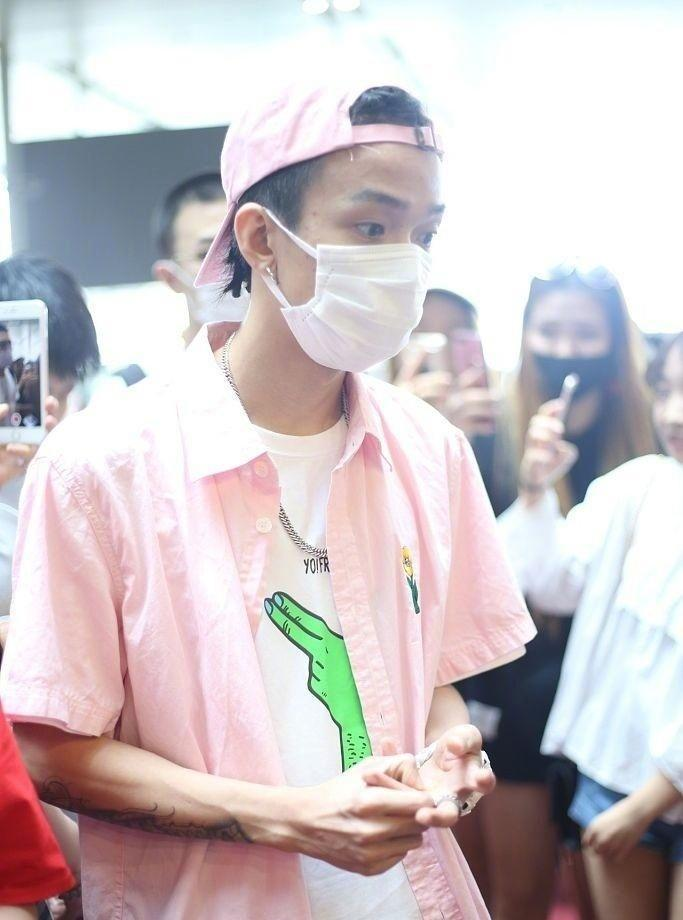NONE: (658, 373, 683, 461)
OK: (244, 174, 433, 363), (181, 225, 284, 332)
WRONG: (528, 309, 615, 399)
